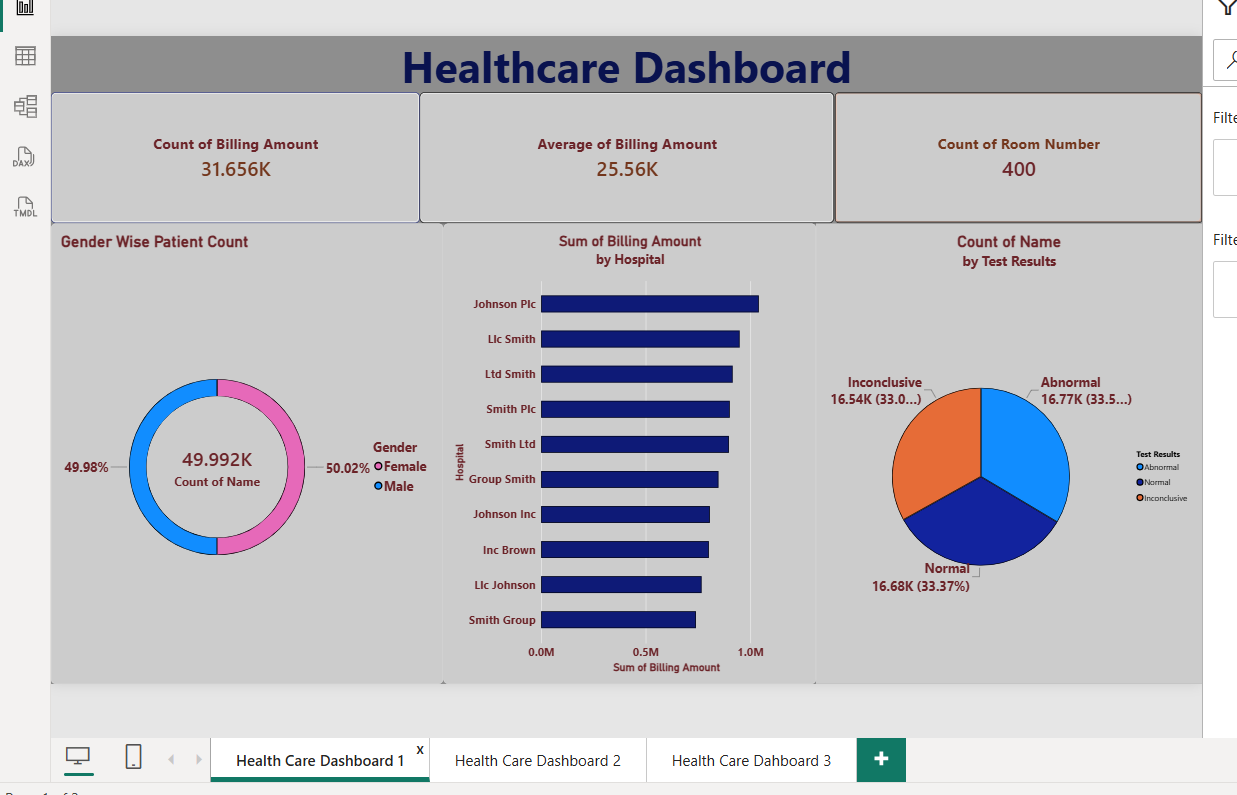

The dashboard page shown, as its layout file describes it:
{"tool":"powerbi","page":{"name":"Health Care Dashboard 1","canvas":[1920,1080],"ordinal":0},"visuals":[{"type":"textbox","box":[0,0,1920.4,111.1],"z":0},{"type":"cardVisual","title":"Total Billing Amount","fields":{"Data":["Count(Health Care.Billing Amount)"]},"box":[0,94.7,615.4,218.2],"z":1000},{"type":"cardVisual","fields":{"Data":["Avg(Health Care.Billing Amount)"]},"box":[615.4,94.7,691.6,218.2],"z":2000},{"type":"cardVisual","fields":{"Data":["Count(Health Care.Room Number)"]},"box":[1307,94.7,613.4,218.2],"z":3000},{"type":"donutChart","title":"Gender Wise Patient Count","fields":{"Category":["Health Care.Gender"],"Y":["CountNonNull(Health Care.Name)"]},"box":[0,312.9,654.5,767.8],"z":5000},{"type":"pieChart","fields":{"Category":["Health Care.Test Results"],"Y":["CountNonNull(Health Care.Name)"]},"box":[1276.2,312.9,644.3,767.8],"z":6000},{"type":"clusteredBarChart","fields":{"Category":["Health Care.Hospital"],"Y":["Sum(Health Care.Billing Amount)"]},"box":[654.5,312.9,621.6,767.8],"z":7000}]}

Visuals, with their boxes on the page's 1920x1080 design canvas (x1, y1, x2, y2). These are canvas units, not pixel positions in the 1237x795 screenshot, which may show the page scaled, cropped or inside an application window:
textbox: (0, 0, 1920, 111)
"Total Billing Amount" cardVisual: (0, 95, 615, 313)
cardVisual - Avg(Health Care.Billing Amount): (615, 95, 1307, 313)
cardVisual - Count(Health Care.Room Number): (1307, 95, 1920, 313)
"Gender Wise Patient Count" donutChart: (0, 313, 654, 1081)
pieChart - Health Care.Test Results x CountNonNull(Health Care.Name): (1276, 313, 1920, 1081)
clusteredBarChart - Health Care.Hospital x Sum(Health Care.Billing Amount): (654, 313, 1276, 1081)
